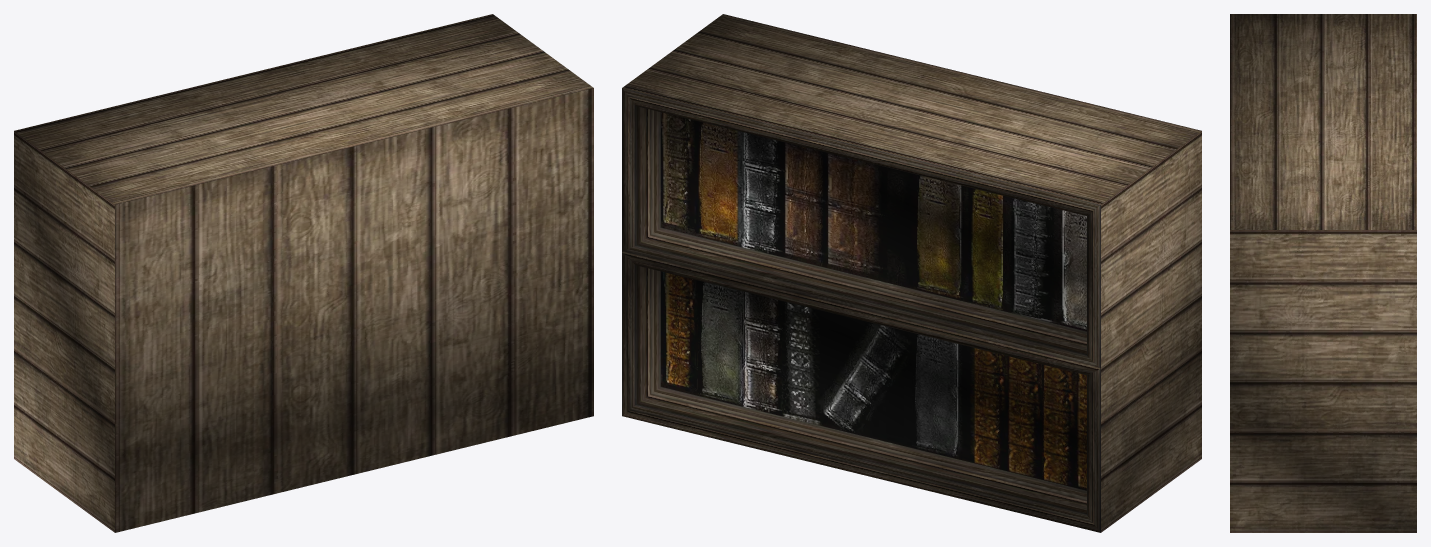
File: GS_VOB_MERCHANT_BOOKSTAND_YELLOW_01_KOZA.glb
3 renders of one model, left to right at view 1: azimuth 30°, elevation 25°; view 2: azimuth 150°, elevation 25°; view 3: azimuth 270°, elevation 25°, orthographic. The views are drawn at different scales.
Visible parts, largest first — view 1: Mesh; view 2: Mesh; view 3: Mesh.
Part boxes in pixels (box(x1,y1,x2,y2)): Mesh: box(14, 14, 593, 532); Mesh: box(622, 14, 1201, 532); Mesh: box(1230, 14, 1416, 532).
Bounding box in the file's own units: 0.9054 × 0.5929 × 0.3312.
Materials: 3 (3 with a texture image).
